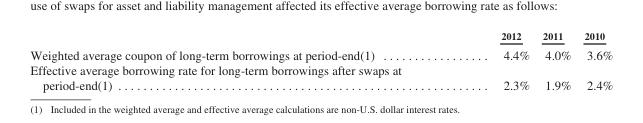table: (29, 29, 612, 91)
table column: (29, 29, 450, 91), (450, 29, 535, 91), (535, 29, 577, 91), (577, 29, 612, 91)
table column header: (29, 29, 612, 44)
table row: (29, 62, 612, 91), (29, 44, 612, 62), (29, 29, 612, 44)
